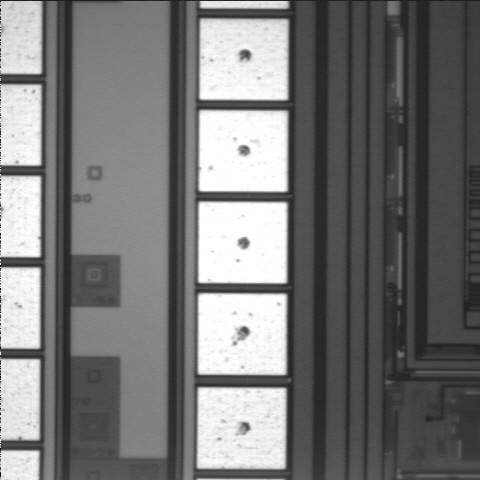pad: (199, 110, 288, 192), (198, 293, 287, 375), (197, 387, 286, 469), (199, 19, 288, 100), (198, 202, 287, 283)
